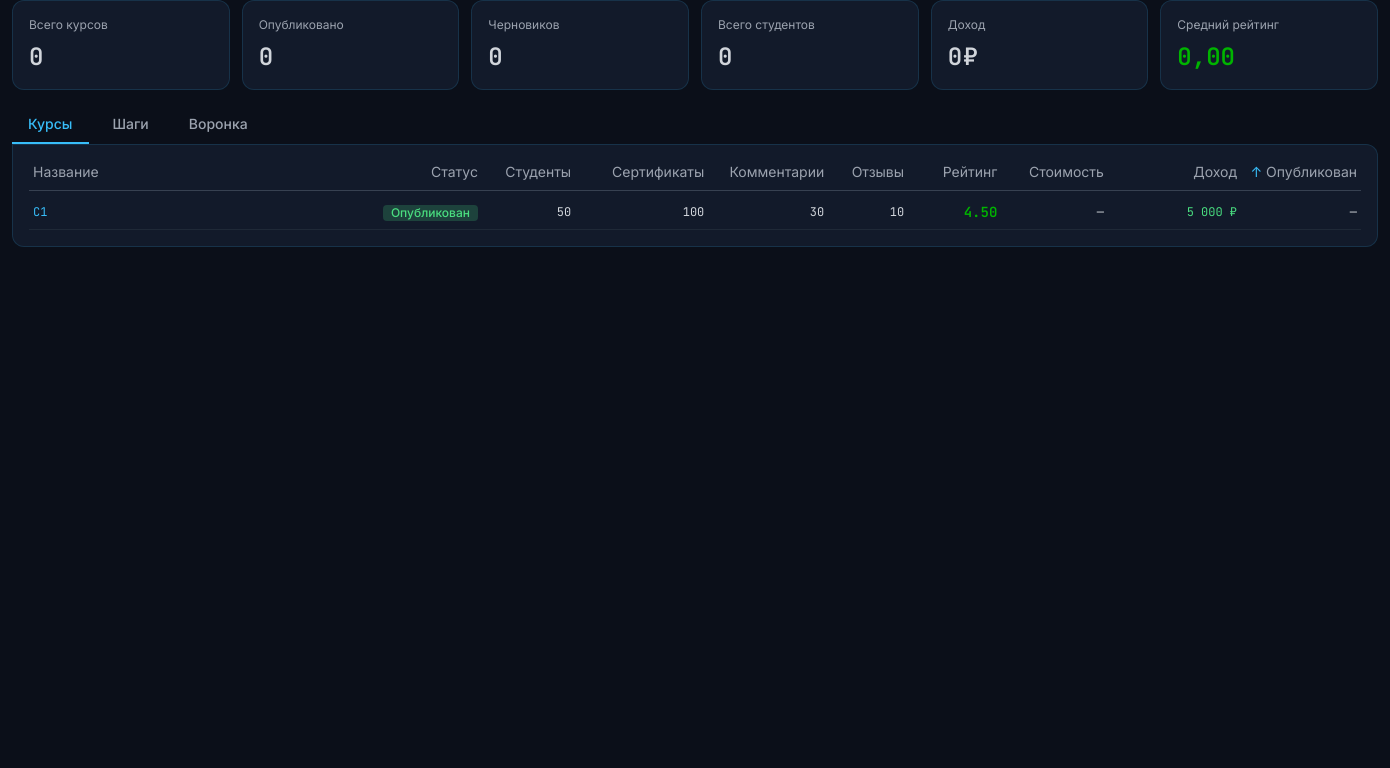
Courses › loads funnel on the Воронка tab
Click the button "Воронка": (218, 125) [173,106,264,144]
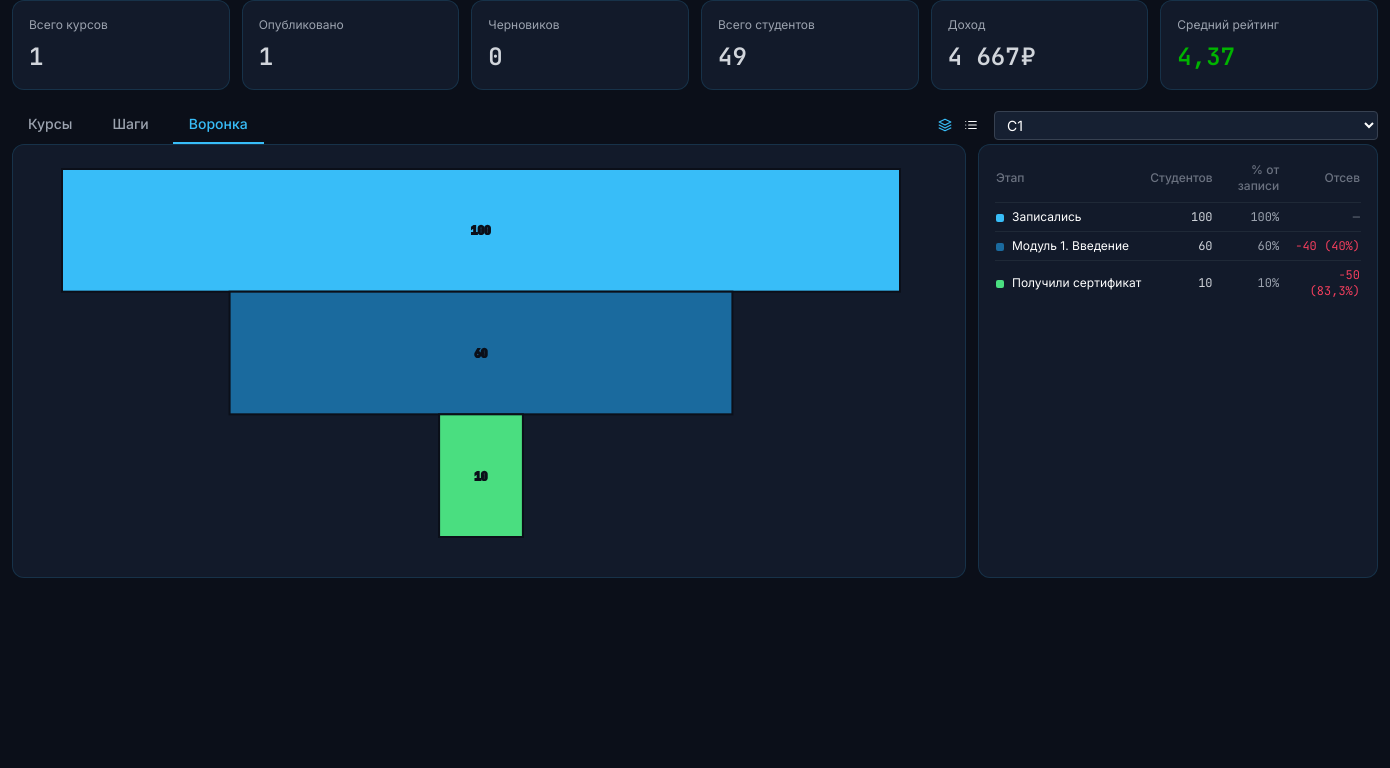
Now the text "Записались" is shown, box [995,202,1149,232]
Now the text "Модуль 1. Введение" is shown, box [995,232,1149,260]
Now the text "Получили сертификат" is shown, box [995,260,1149,305]
